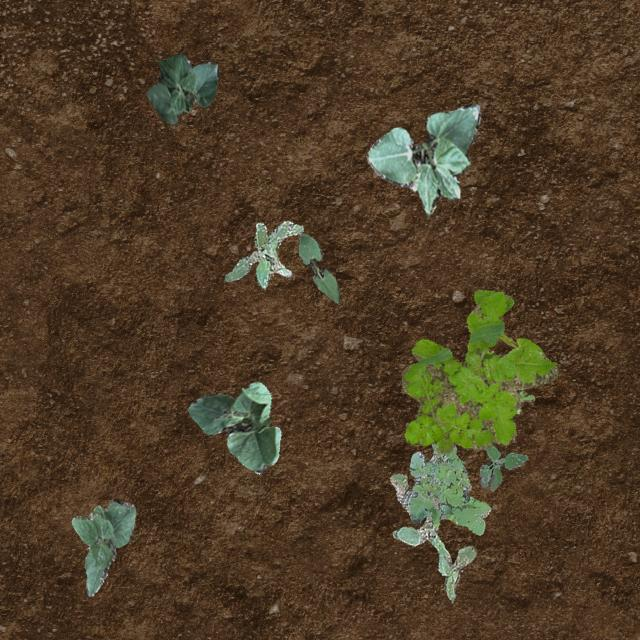crop: (366, 102, 481, 216), (187, 382, 280, 472), (70, 498, 134, 596), (146, 54, 218, 124), (296, 232, 340, 302), (467, 316, 541, 352)
weed: (401, 288, 556, 452), (388, 472, 474, 600), (408, 442, 490, 534), (224, 220, 302, 288), (478, 443, 526, 491), (514, 388, 534, 412)
